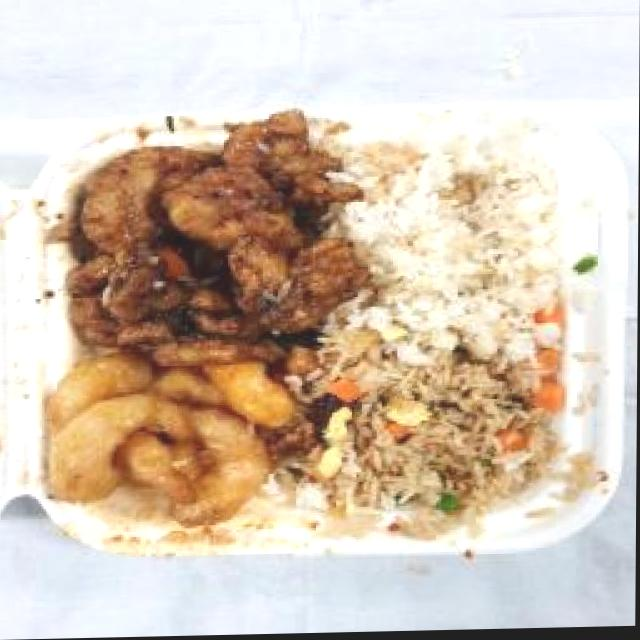Fried Rice: (317, 322, 576, 534)
Honey Walnut Shrimp: (47, 341, 316, 534)
The Original Orange Chicken: (66, 111, 362, 364)
White Steamed Rice: (353, 140, 569, 344)
